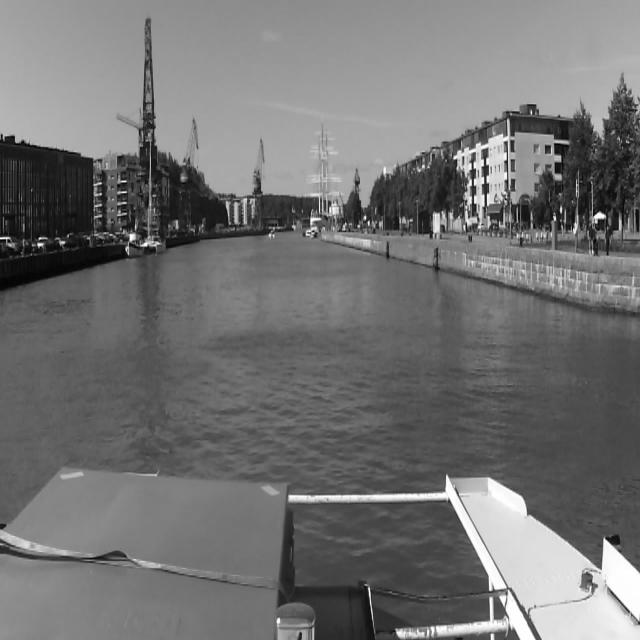ship: (148, 140, 166, 252), (123, 233, 141, 259), (269, 230, 275, 239)
